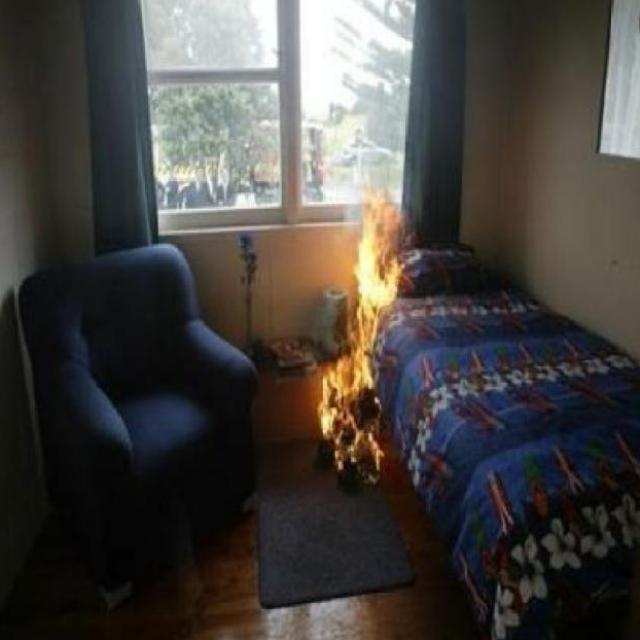smoke: (309, 184, 422, 481)
